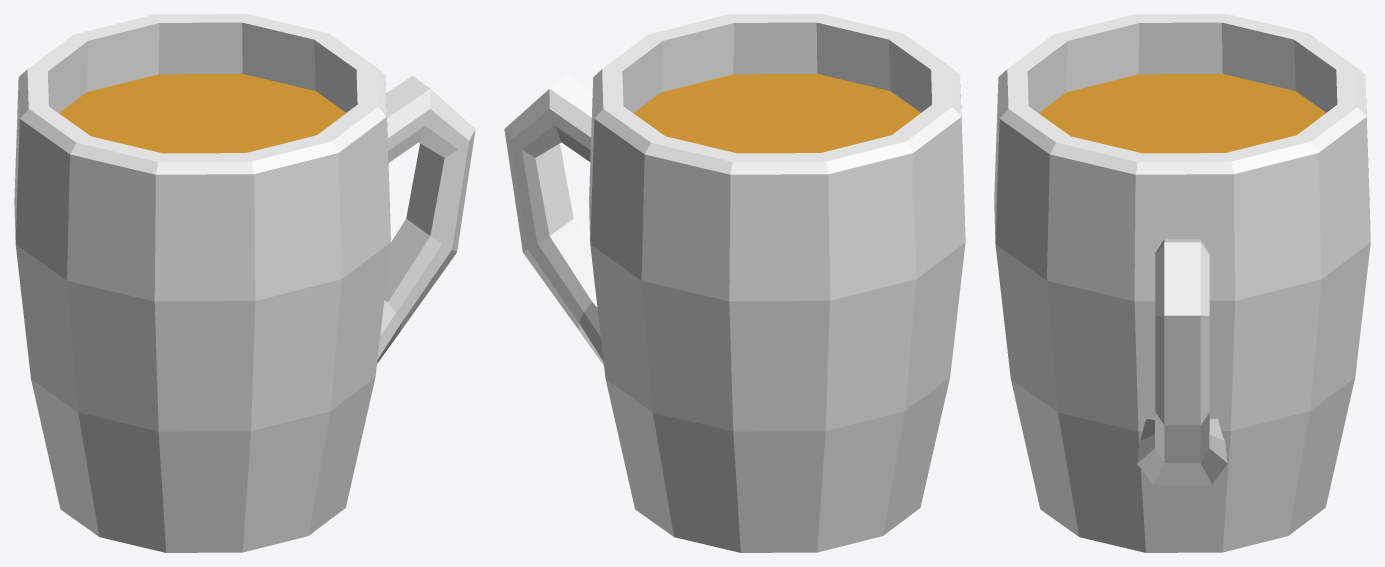
The model's file is Cup_08.fbx.
3 renders of one model, left to right at view 1: azimuth 30°, elevation 25°; view 2: azimuth 150°, elevation 25°; view 3: azimuth 270°, elevation 25°, orthographic.
Visible parts, largest first — view 1: Cup_08; view 2: Cup_08; view 3: Cup_08.
Part boxes in pixels (x1=…): Cup_08: x1=14, y1=14, x2=475, y2=552; Cup_08: x1=504, y1=14, x2=965, y2=552; Cup_08: x1=994, y1=14, x2=1370, y2=552.
Bounding box in the file's own units: 12.49 × 11.3 × 9.54.
